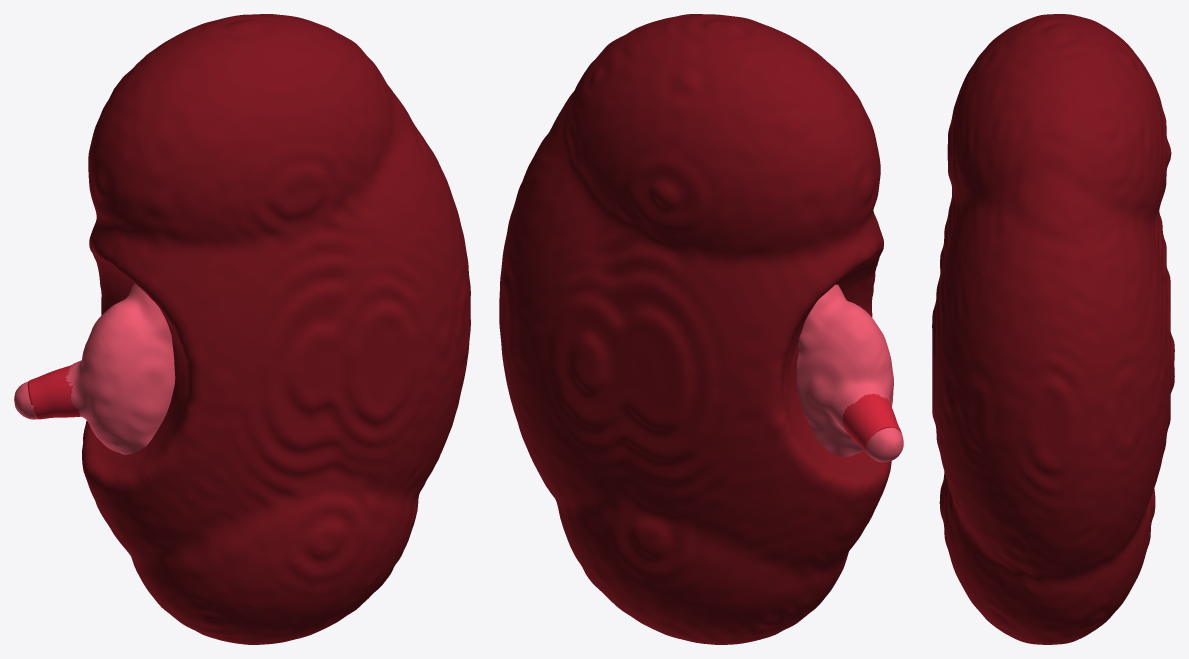
File: Kidney_Game_v003.obj
3 renders of one model, left to right at view 1: azimuth 30°, elevation 25°; view 2: azimuth 150°, elevation 25°; view 3: azimuth 270°, elevation 25°, orthographic. The views are drawn at different scales.
Parts seen in each view (by area): view 1: KidneyExterior, CollectingSystemVisual, UreterJunctionVisual; view 2: KidneyExterior, CollectingSystemVisual, UreterJunctionVisual; view 3: KidneyExterior.
Part boxes in pixels (<box>): KidneyExterior: <box>82,14,470,644</box>; CollectingSystemVisual: <box>14,283,175,454</box>; UreterJunctionVisual: <box>27,365,81,419</box>; KidneyExterior: <box>499,14,891,644</box>; CollectingSystemVisual: <box>796,284,903,462</box>; UreterJunctionVisual: <box>842,394,901,455</box>; KidneyExterior: <box>932,14,1174,644</box>.
Size of what is drawn, in the model's own units: 10.54 by 15.06 by 5.61.
